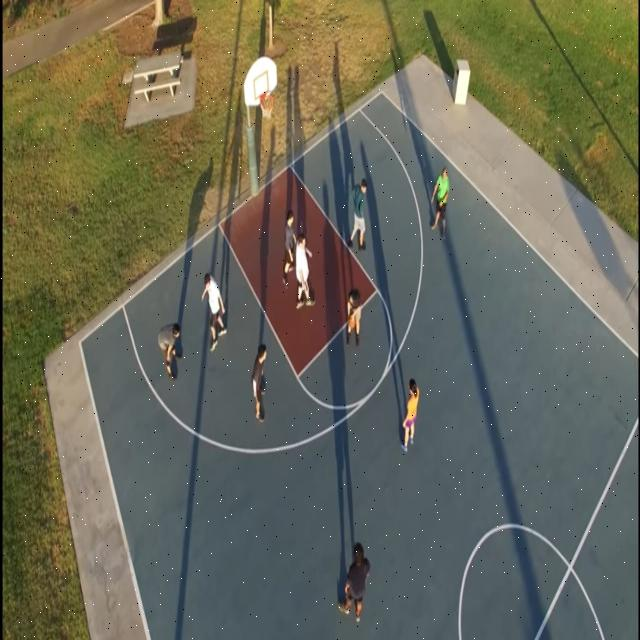humans: (336, 539, 372, 626), (201, 271, 230, 352), (248, 335, 270, 427), (398, 372, 422, 455), (294, 229, 316, 314), (154, 318, 183, 382), (429, 163, 452, 240), (347, 176, 369, 253), (343, 283, 363, 353), (282, 203, 298, 285)
